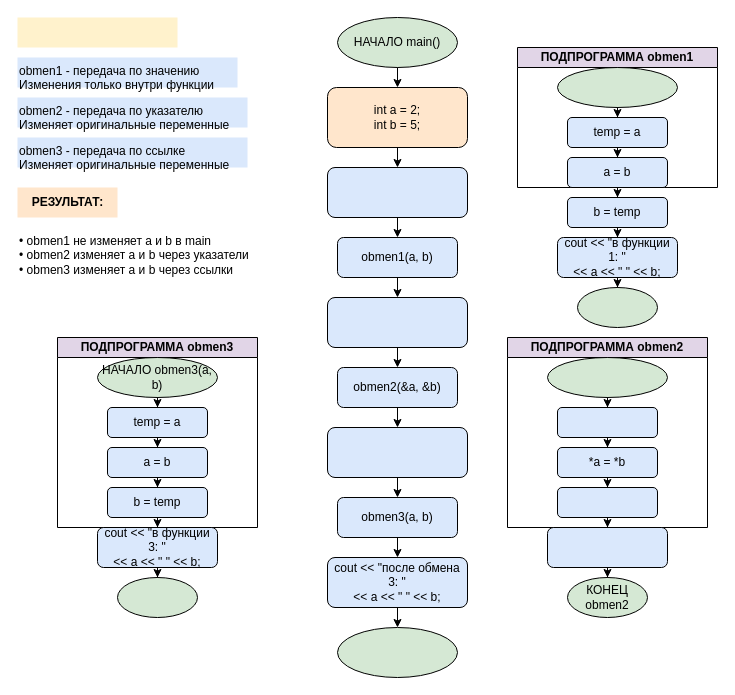
Some shapes in this 735 by 695 pixel diagram are drawn without their labels. Each missing label, with the centre of its shape:
*b = temp: point 607,502
cout << "в функции 2: " << *a << " " << *b;: point 607,547
cout << "до обмена: " << a << " " << b;: point 397,192
cout << "после обмена 1: " << a << " " << b;: point 397,322
cout << "после обмена 2: " << a << " " << b;: point 397,452
temp = *a: point 607,422
КОНЕЦ main(): point 397,652
КОНЕЦ obmen1: point 617,307
КОНЕЦ obmen3: point 157,597
НАЧАЛО obmen1(a, b): point 617,87
НАЧАЛО obmen2(*a, *b): point 607,377
ПЕРЕДАЧА ПАРАМЕТРОВ:: point 97,32
